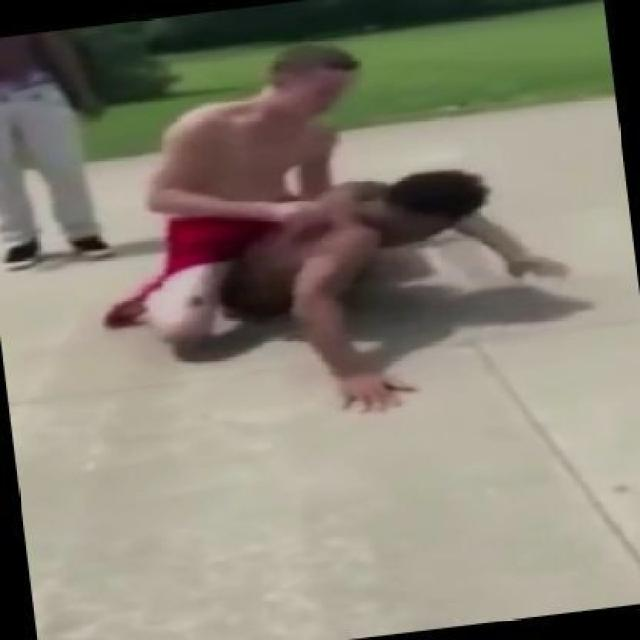fight: (105, 24, 578, 416)
non-fight: (3, 12, 113, 279)
